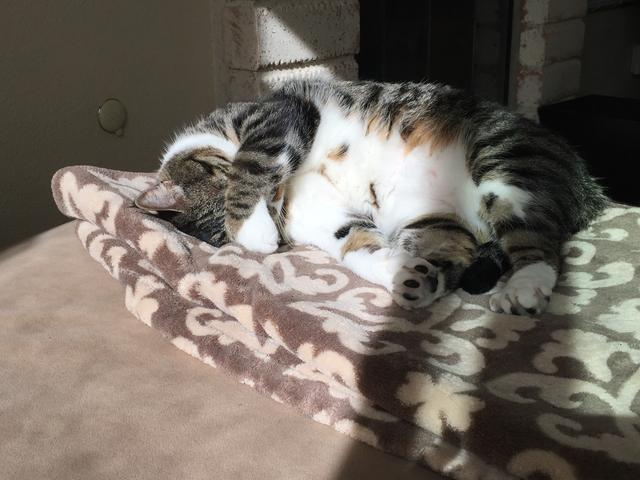playdoh: (136, 79, 607, 316)
